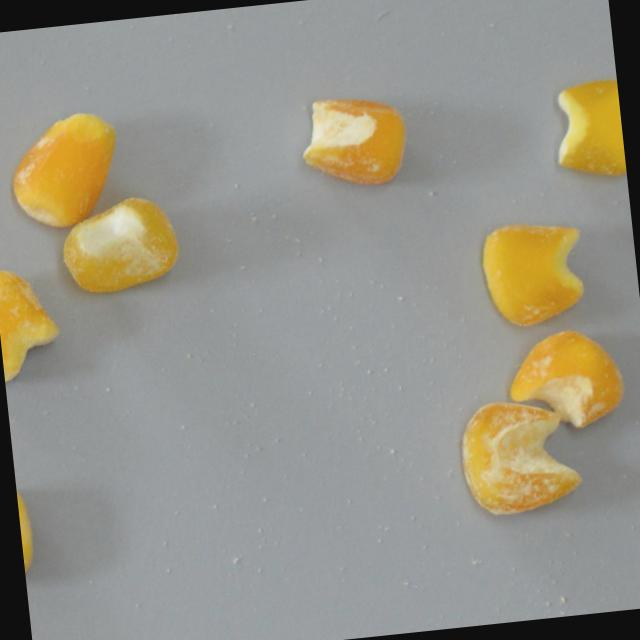no_canjicado: (549, 76, 626, 181)
pelicula: (456, 391, 585, 520), (6, 107, 127, 233), (504, 323, 628, 435), (58, 190, 185, 297), (478, 216, 590, 331), (297, 89, 412, 190), (0, 263, 64, 382), (15, 480, 36, 580)
